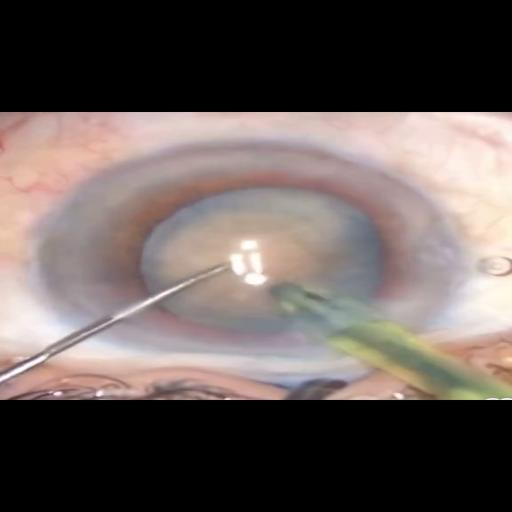catarata: (138, 187, 383, 338)
cornea: (30, 136, 466, 363)
pupil: (100, 167, 419, 350)
